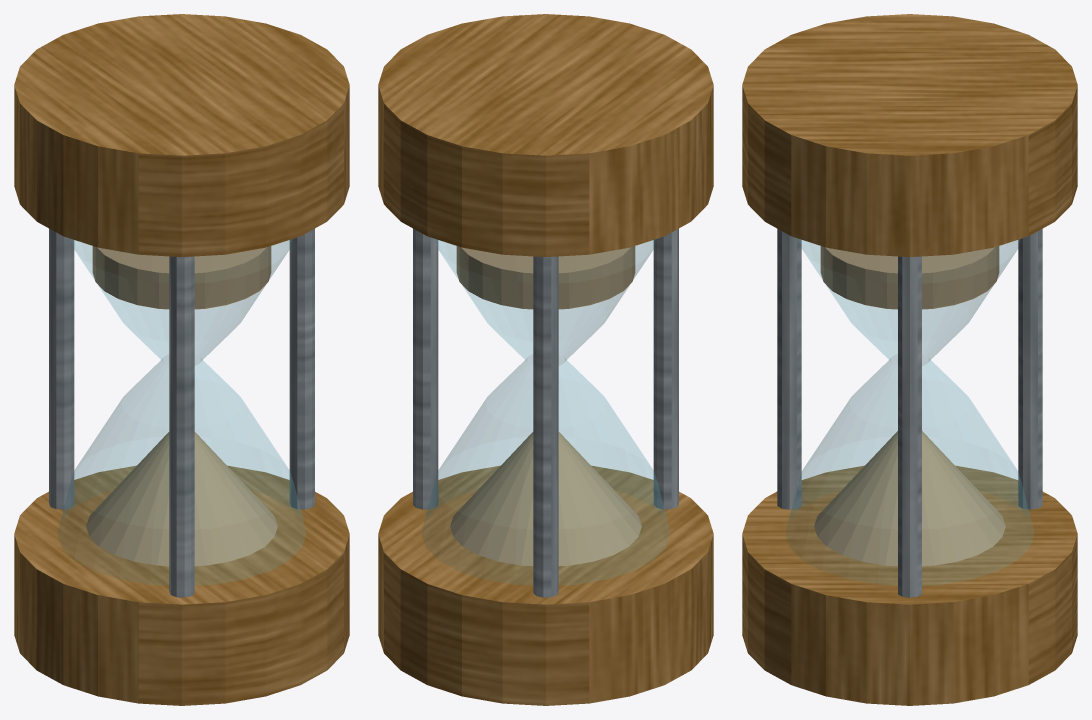
File: hourglass.glb
3 views of the same model, side by side, from view 1: azimuth 30°, elevation 25°; view 2: azimuth 150°, elevation 25°; view 3: azimuth 270°, elevation 25° (orthographic).
Visible parts, largest first — view 1: fixed_brass, glass_glass_clear, fixed_trim, fixed_sand; view 2: fixed_brass, glass_glass_clear, fixed_trim, fixed_sand; view 3: fixed_brass, glass_glass_clear, fixed_trim, fixed_sand.
Boxes of the visible parts, x1,y1,x2,y2 form: fixed_brass: (14, 14, 349, 705); glass_glass_clear: (58, 239, 305, 584); fixed_trim: (49, 228, 314, 597); fixed_sand: (86, 246, 277, 566); fixed_brass: (378, 14, 713, 705); glass_glass_clear: (422, 239, 669, 584); fixed_trim: (413, 228, 678, 597); fixed_sand: (450, 246, 641, 566); fixed_brass: (742, 14, 1077, 705); glass_glass_clear: (786, 239, 1033, 584); fixed_trim: (777, 229, 1042, 597); fixed_sand: (814, 246, 1005, 566).
Size of the model in its own units: 0.21 by 0.38 by 0.21.
4 materials, 2 textured.
